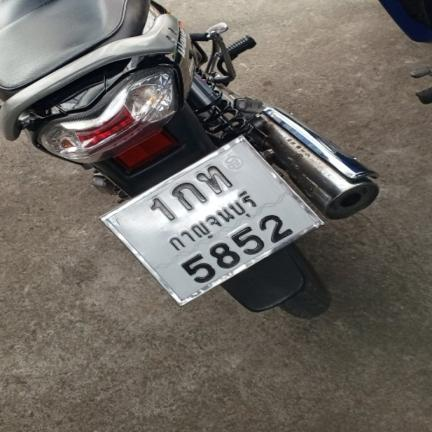1: (143, 194, 180, 224)
2: (253, 206, 297, 246)
5: (225, 221, 271, 259), (175, 250, 220, 286)
8: (203, 238, 247, 274)
A01: (165, 177, 211, 214)
A23: (190, 161, 237, 199)
KRI: (160, 187, 268, 257)
